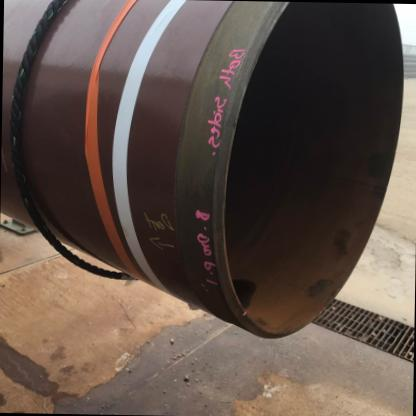Bevel: (223, 116, 241, 143)
